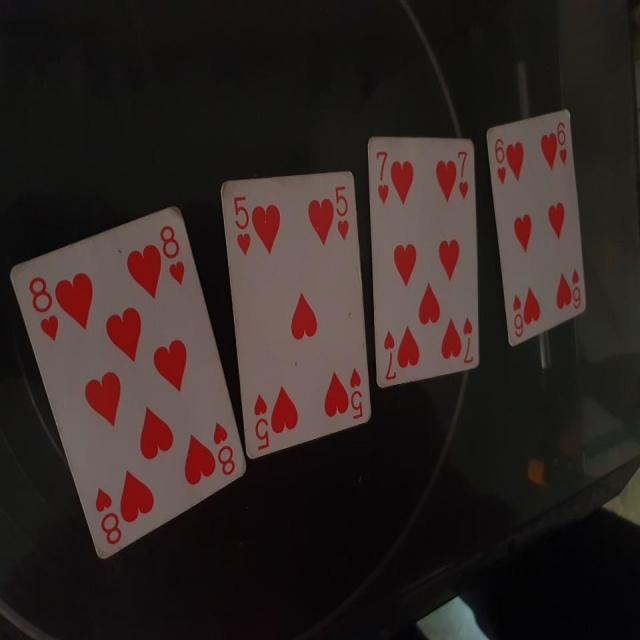5 Hearts: (216, 161, 377, 462)
6 Hearts: (478, 102, 591, 348)
7 Hearts: (362, 131, 482, 392)
8 Hearts: (7, 202, 250, 566)
